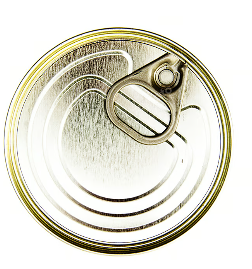Intacto: (8, 33, 227, 254)
